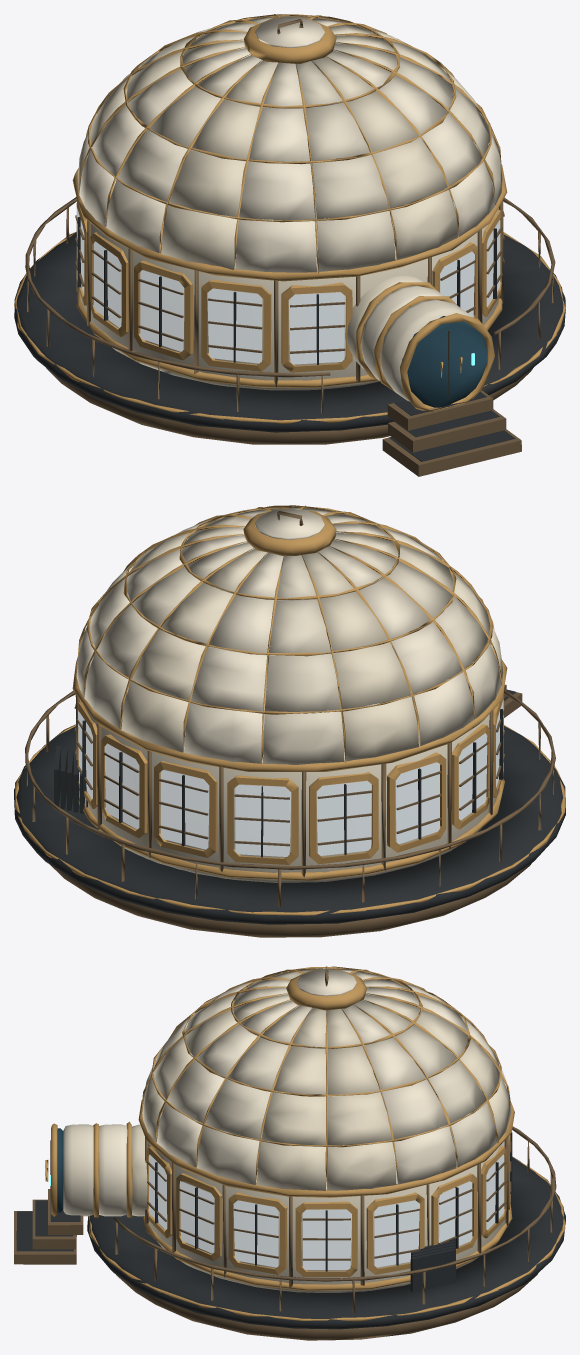
The model's file is habitat-h01-low.glb.
3 views of the same model, one above another, from view 1: azimuth 30°, elevation 25°; view 2: azimuth 150°, elevation 25°; view 3: azimuth 270°, elevation 25° (orthographic). The views are drawn at different scales.
Visible parts, largest first — view 1: H01 batch 03 / ARES / ivory ceramic 0.001, H01 batch 02 / ARES / satin brass.001, H01 batch 01 / ARES / charcoal seals.001, H01 batch 05 / ARES / ivory ceramic 1.001, H01 batch 06 / ARES / ivory ceramic 2.001, H01 batch 00 / ARES / dark bronze structure.001, H01 batch 04 / ARES / warm occupied windows.001, H01 batch 07 / ARES / navy enamel.001; view 2: H01 batch 03 / ARES / ivory ceramic 0.001, H01 batch 02 / ARES / satin brass.001, H01 batch 01 / ARES / charcoal seals.001, H01 batch 05 / ARES / ivory ceramic 1.001, H01 batch 06 / ARES / ivory ceramic 2.001, H01 batch 00 / ARES / dark bronze structure.001, H01 batch 04 / ARES / warm occupied windows.001; view 3: H01 batch 03 / ARES / ivory ceramic 0.001, H01 batch 02 / ARES / satin brass.001, H01 batch 01 / ARES / charcoal seals.001, H01 batch 05 / ARES / ivory ceramic 1.001, H01 batch 06 / ARES / ivory ceramic 2.001, H01 batch 00 / ARES / dark bronze structure.001, H01 batch 04 / ARES / warm occupied windows.001, H01 batch 07 / ARES / navy enamel.001.
Part boxes in pixels (x1,y1,x2,y2): H01 batch 03 / ARES / ivory ceramic 0.001: (78, 16, 498, 390); H01 batch 02 / ARES / satin brass.001: (14, 14, 565, 423); H01 batch 01 / ARES / charcoal seals.001: (14, 217, 565, 461); H01 batch 05 / ARES / ivory ceramic 1.001: (79, 17, 494, 380); H01 batch 06 / ARES / ivory ceramic 2.001: (106, 16, 502, 401); H01 batch 00 / ARES / dark bronze structure.001: (25, 19, 555, 476); H01 batch 04 / ARES / warm occupied windows.001: (76, 207, 500, 364); H01 batch 07 / ARES / navy enamel.001: (401, 316, 487, 407); H01 batch 03 / ARES / ivory ceramic 0.001: (80, 508, 503, 882); H01 batch 02 / ARES / satin brass.001: (15, 505, 564, 915); H01 batch 01 / ARES / charcoal seals.001: (14, 689, 565, 924); H01 batch 05 / ARES / ivory ceramic 1.001: (76, 507, 473, 763); H01 batch 06 / ARES / ivory ceramic 2.001: (84, 509, 500, 764); H01 batch 00 / ARES / dark bronze structure.001: (25, 511, 555, 937); H01 batch 04 / ARES / warm occupied windows.001: (78, 699, 503, 856); H01 batch 03 / ARES / ivory ceramic 0.001: (132, 971, 511, 1292); H01 batch 02 / ARES / satin brass.001: (45, 966, 565, 1321); H01 batch 01 / ARES / charcoal seals.001: (16, 1132, 565, 1329); H01 batch 05 / ARES / ivory ceramic 1.001: (99, 968, 507, 1216); H01 batch 06 / ARES / ivory ceramic 2.001: (63, 968, 496, 1216); H01 batch 00 / ARES / dark bronze structure.001: (14, 968, 556, 1340); H01 batch 04 / ARES / warm occupied windows.001: (149, 1154, 504, 1269); H01 batch 07 / ARES / navy enamel.001: (57, 1128, 63, 1212).
Size of the model in its own units: 5.92 by 3.78 by 6.83.
